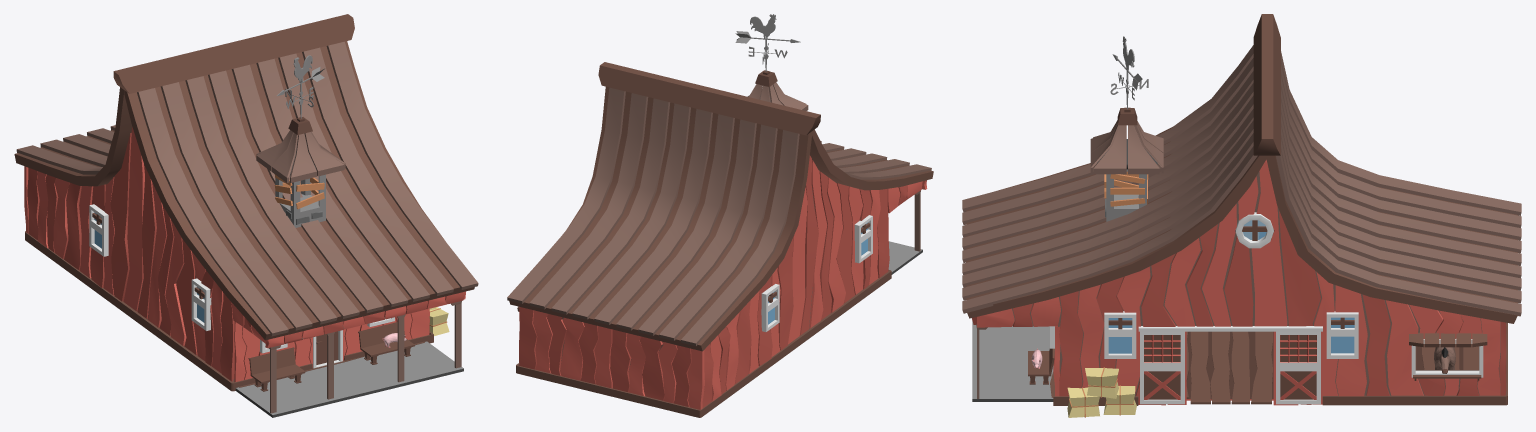
The model's file is House famr2.glb.
3 views of the same model, side by side, from view 1: azimuth 30°, elevation 25°; view 2: azimuth 150°, elevation 25°; view 3: azimuth 270°, elevation 25° (orthographic). The views are drawn at different scales.
Visible parts, largest first — view 1: Cube.014, Cube.000; view 2: Cube.014; view 3: Cube.014, Cube.002, Cube.000, Cube.001, Cube.013.
Part boxes in pixels (x1,y1,x2,y2): Cube.014: [14, 14, 478, 417]; Cube.000: [429, 307, 449, 335]; Cube.014: [507, 14, 933, 417]; Cube.014: [962, 14, 1521, 405]; Cube.002: [1085, 367, 1118, 398]; Cube.000: [1067, 387, 1099, 417]; Cube.001: [1103, 385, 1136, 415]; Cube.013: [1434, 344, 1455, 373].
Size of the model in its own units: 15.62 by 17.66 by 28.54.
Materials: 4 (4 with a texture image).
